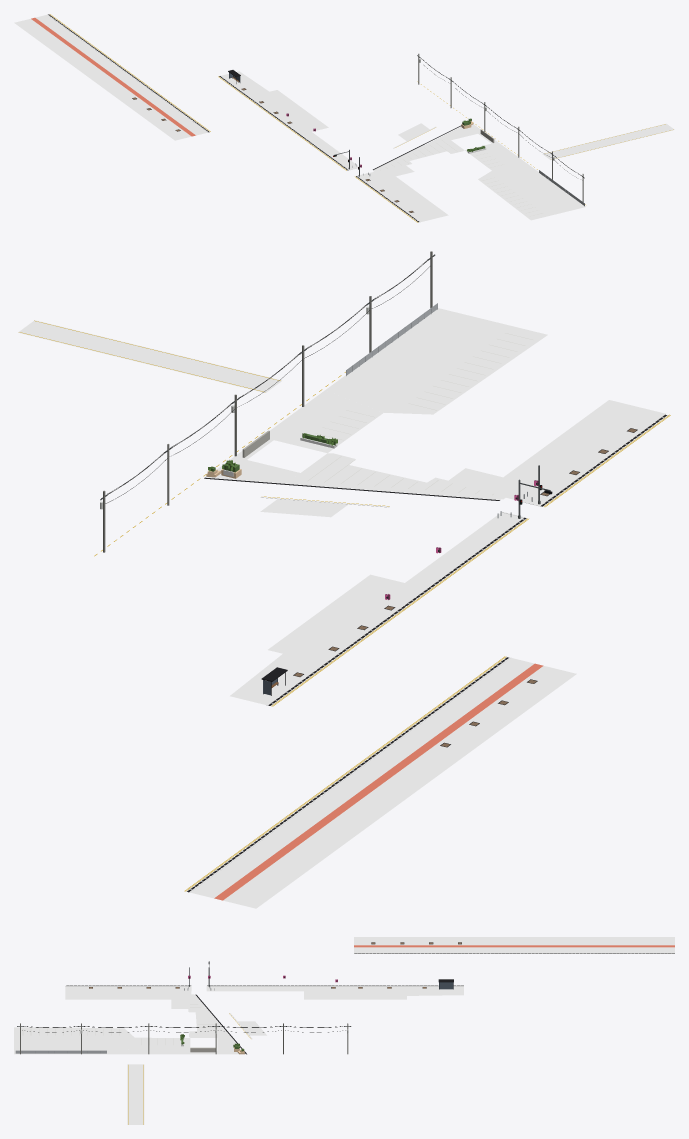
The model's file is street_env.glb.
3 views of the same model, one above another, from view 1: azimuth 30°, elevation 25°; view 2: azimuth 150°, elevation 25°; view 3: azimuth 270°, elevation 25° (orthographic). The views are drawn at different scales.
Visible parts, largest first — view 1: Street; view 2: Street; view 3: Street.
Boxes of the visible parts, x1,y1,x2,y2 form: Street: (14,14,674,222); Street: (18,251,670,908); Street: (14,937,674,1124).
Bounding box in the file's own units: 138 × 10.5 × 206.
